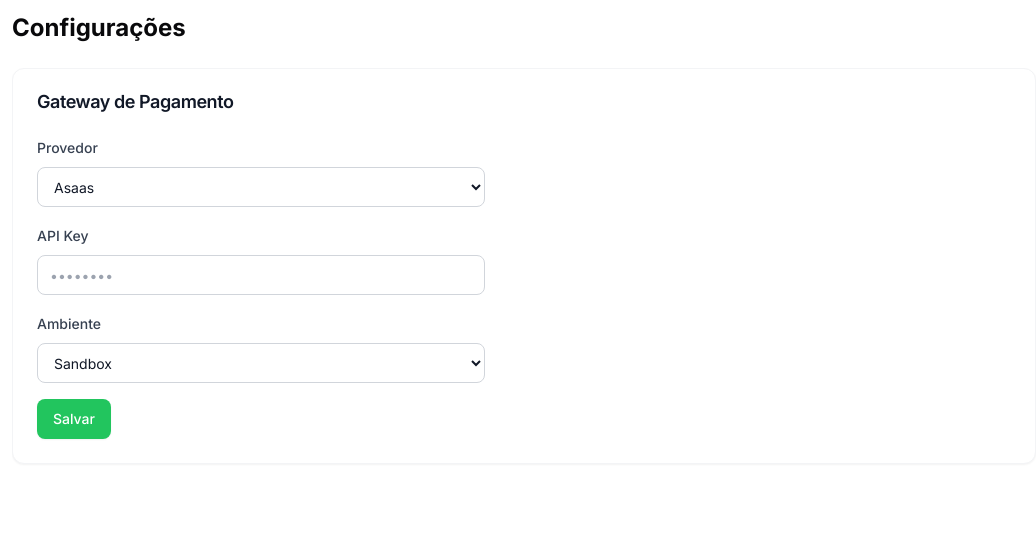
Test: SettingsPage — Multi-Provider › form submission › submits Asaas config with apiKey + environment
The image size is (1036, 541).
In the password field labelled "API Key": (261, 275) [37,255,485,295], type "asaas_test_key"
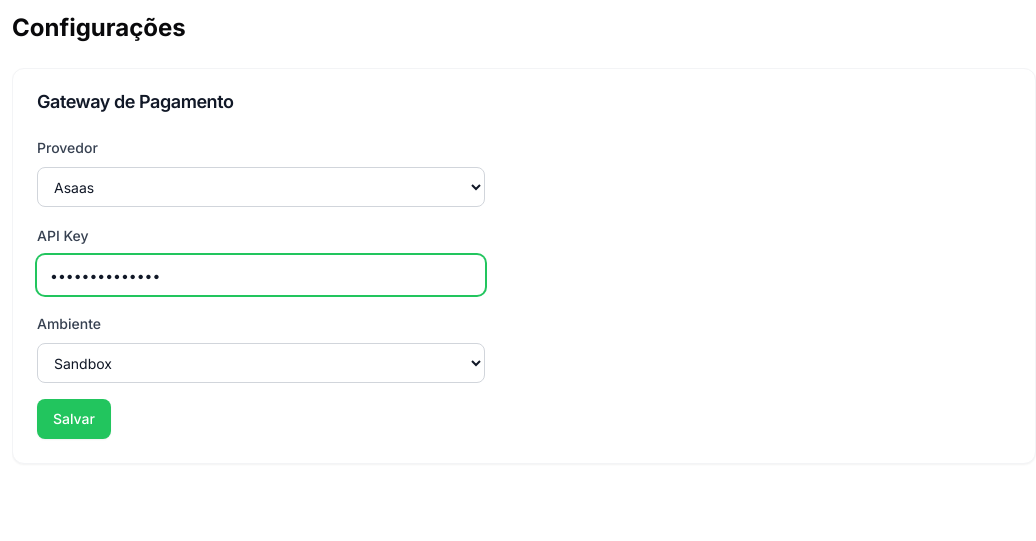
Click the button "Salvar": (74, 419) [37,399,111,439]
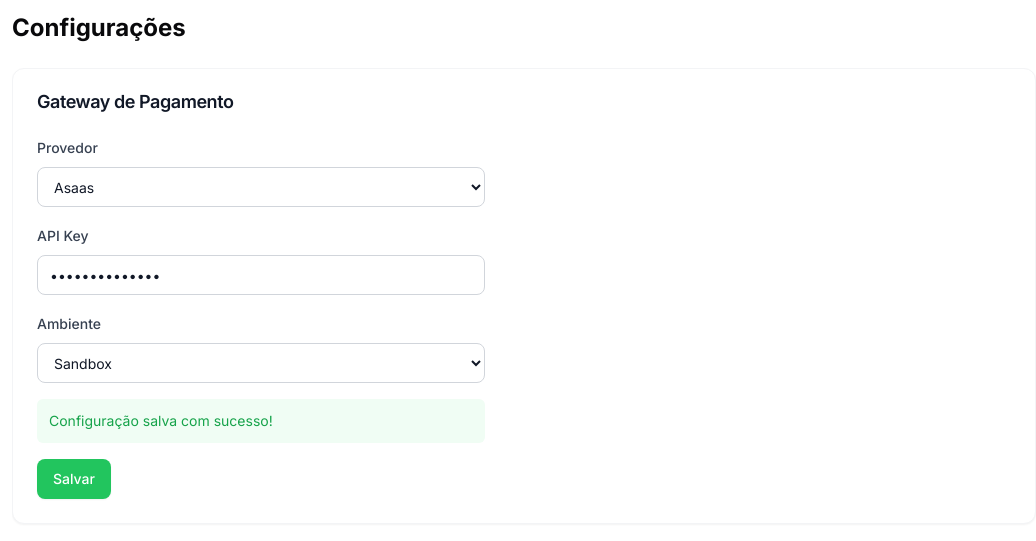
Check: the text "Configuração salva com sucesso!" is shown, box [37,399,485,443]
